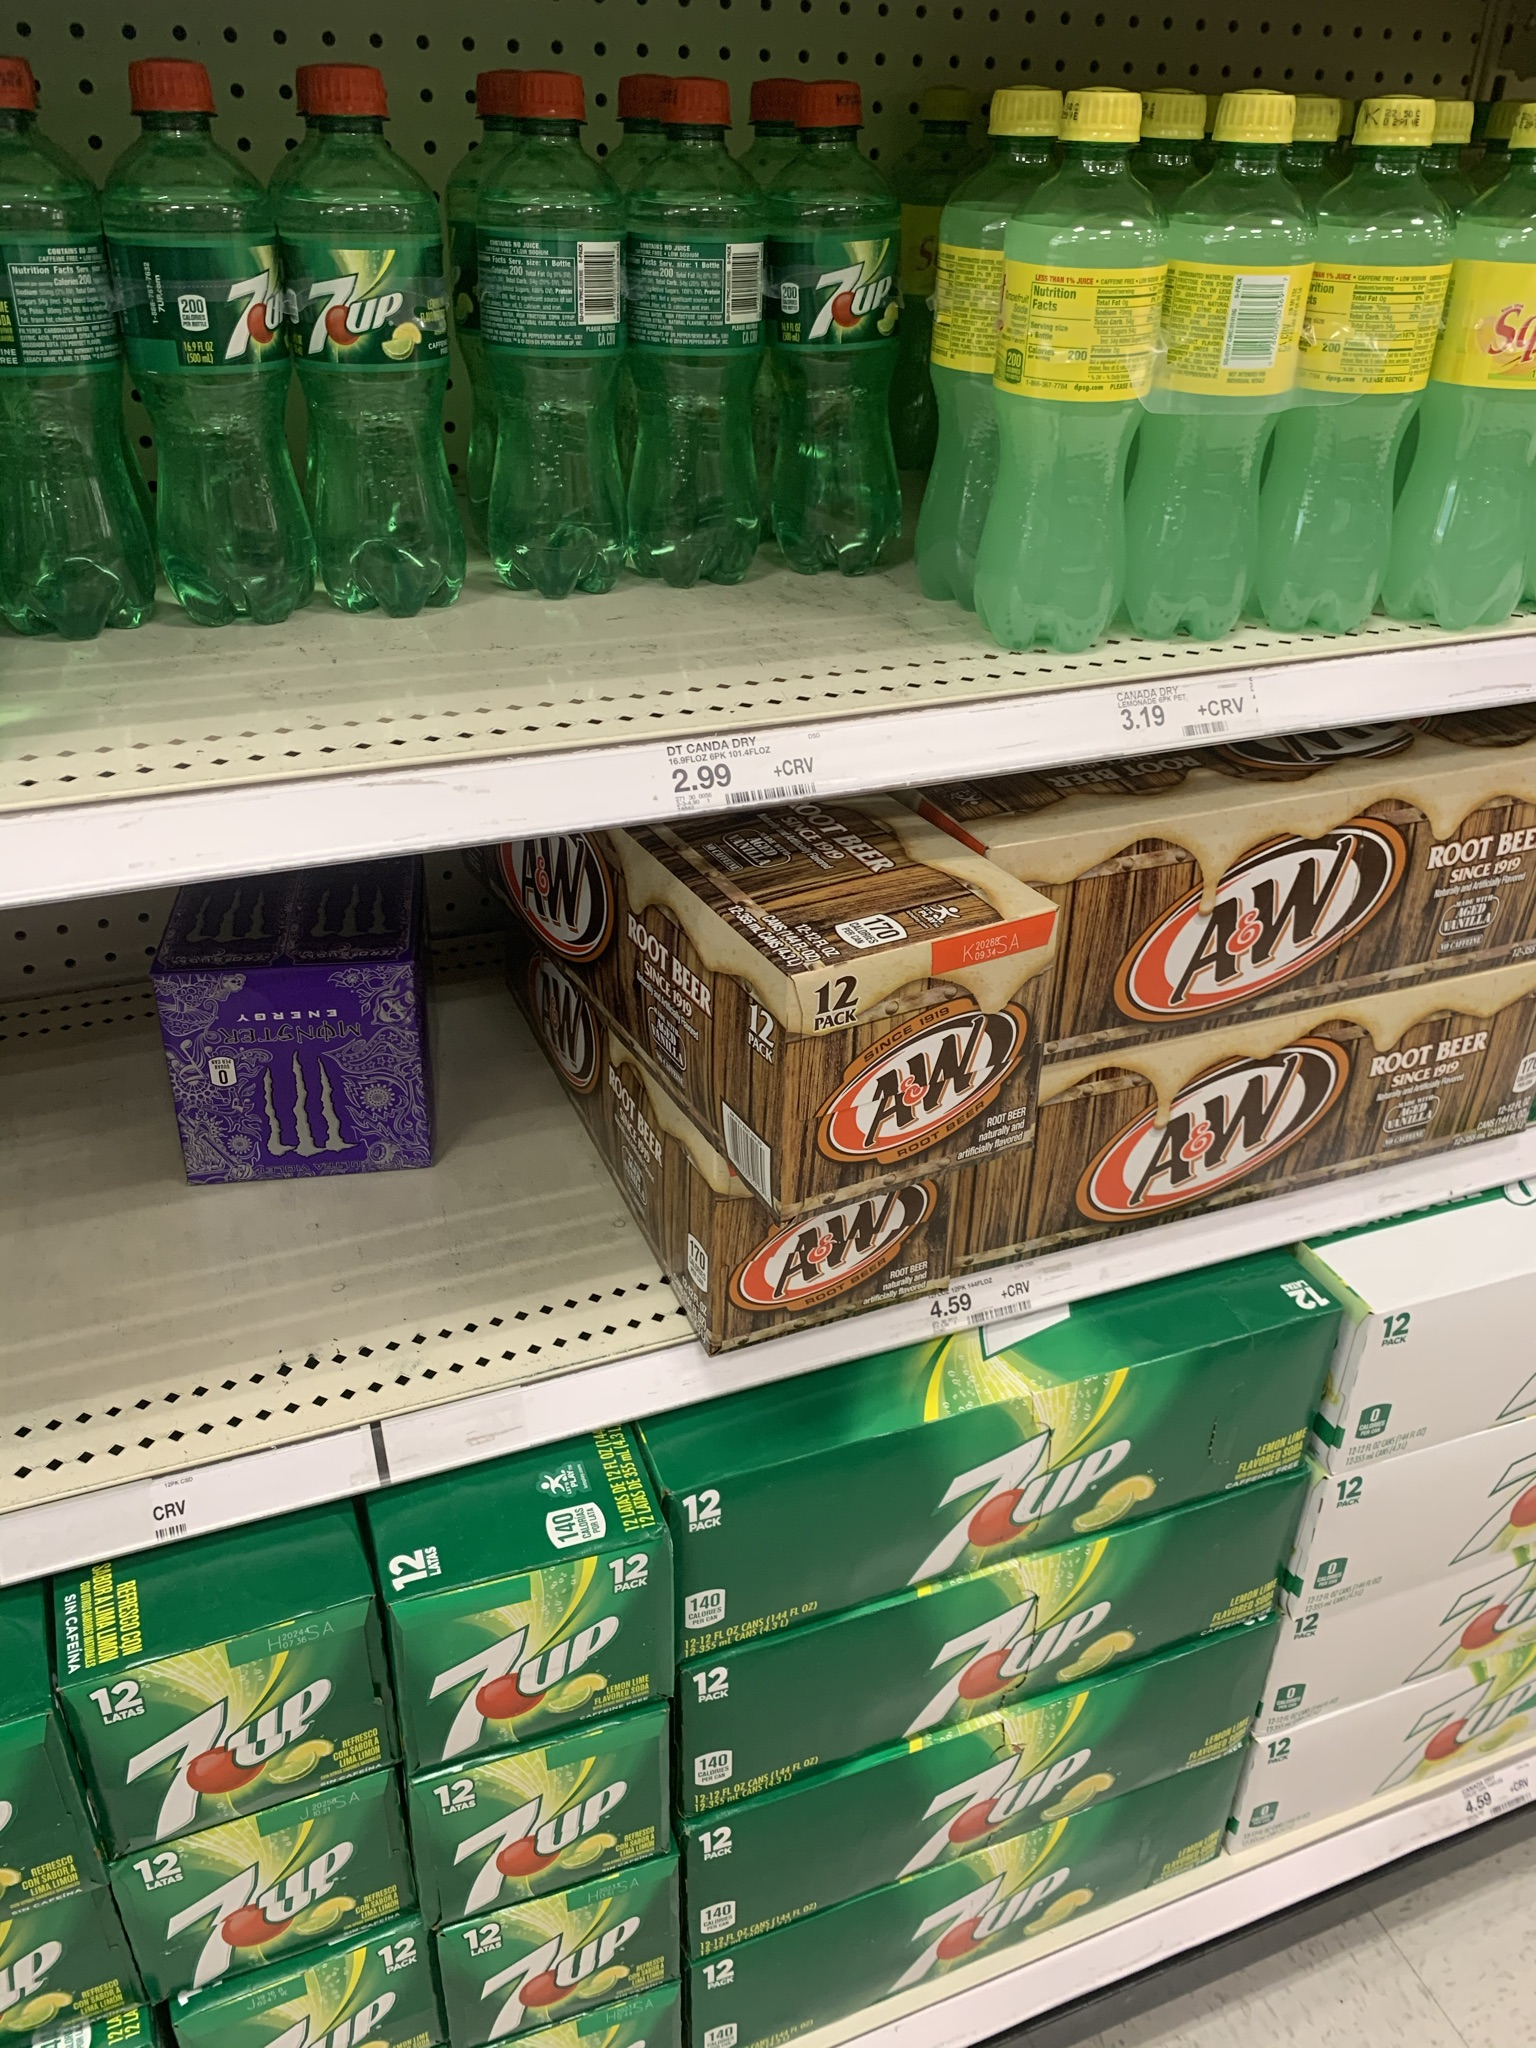7up soda: (665, 1435, 1257, 1892), (82, 1655, 689, 2048), (124, 84, 298, 606), (639, 79, 783, 619), (789, 61, 907, 566), (289, 71, 415, 539), (499, 76, 607, 579)
AW soda: (1004, 835, 1536, 1192)
aw: (762, 926, 994, 1314)
